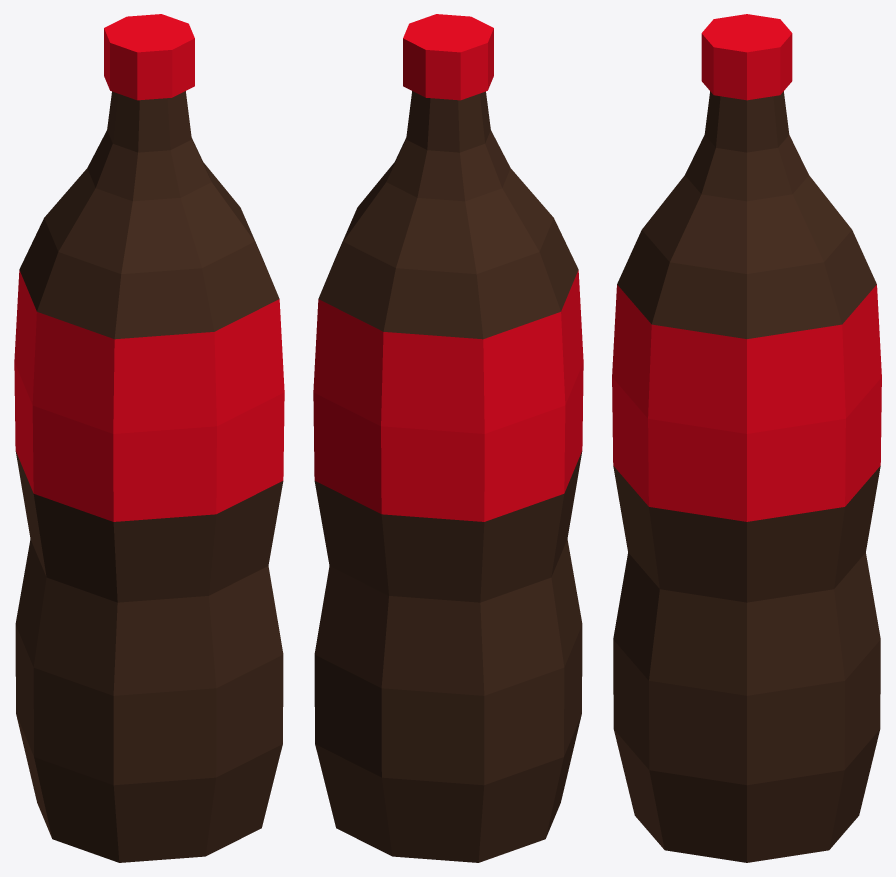
The model's file is coke bottle.fbx.
The picture shows the model from 3 angles, left to right: view 1: azimuth 30°, elevation 25°; view 2: azimuth 150°, elevation 25°; view 3: azimuth 270°, elevation 25°; orthographic projection.
Visible parts, largest first — view 1: bottle, Label, bottle.001; view 2: bottle, Label, bottle.001; view 3: bottle, Label, bottle.001.
Part boxes in pixels (x1,y1,x2,y2): bottle: [15, 91, 283, 862]; Label: [14, 270, 284, 521]; bottle.001: [104, 14, 194, 100]; bottle: [314, 91, 582, 862]; Label: [313, 270, 583, 521]; bottle.001: [403, 14, 493, 100]; bottle: [613, 91, 880, 862]; Label: [612, 284, 881, 521]; bottle.001: [701, 14, 792, 100].
Size of the model in its own units: 183 by 586 by 183.
